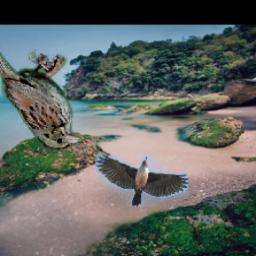Sparrow: (0, 35, 83, 150)
Woodpecker: (96, 154, 189, 207)
